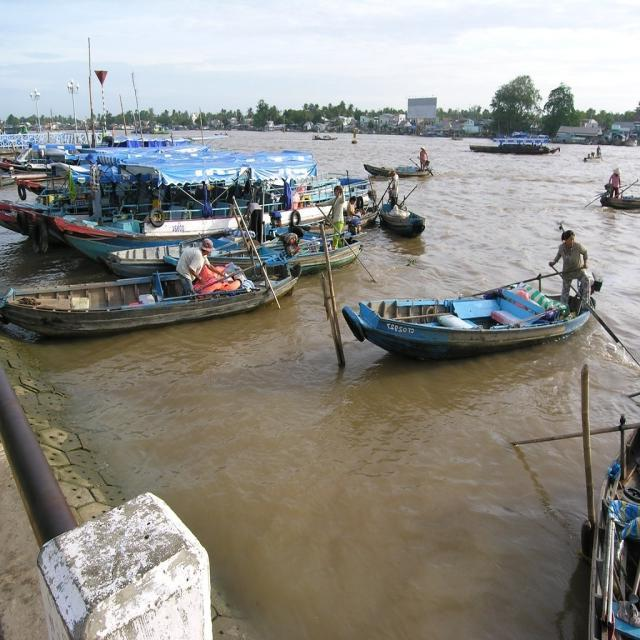boat: (1, 264, 301, 336), (345, 285, 599, 353), (162, 238, 372, 270), (378, 196, 430, 244), (469, 136, 561, 157), (599, 183, 640, 217), (362, 162, 433, 178), (185, 130, 232, 144), (130, 122, 168, 136), (310, 132, 340, 144), (580, 153, 600, 167)
